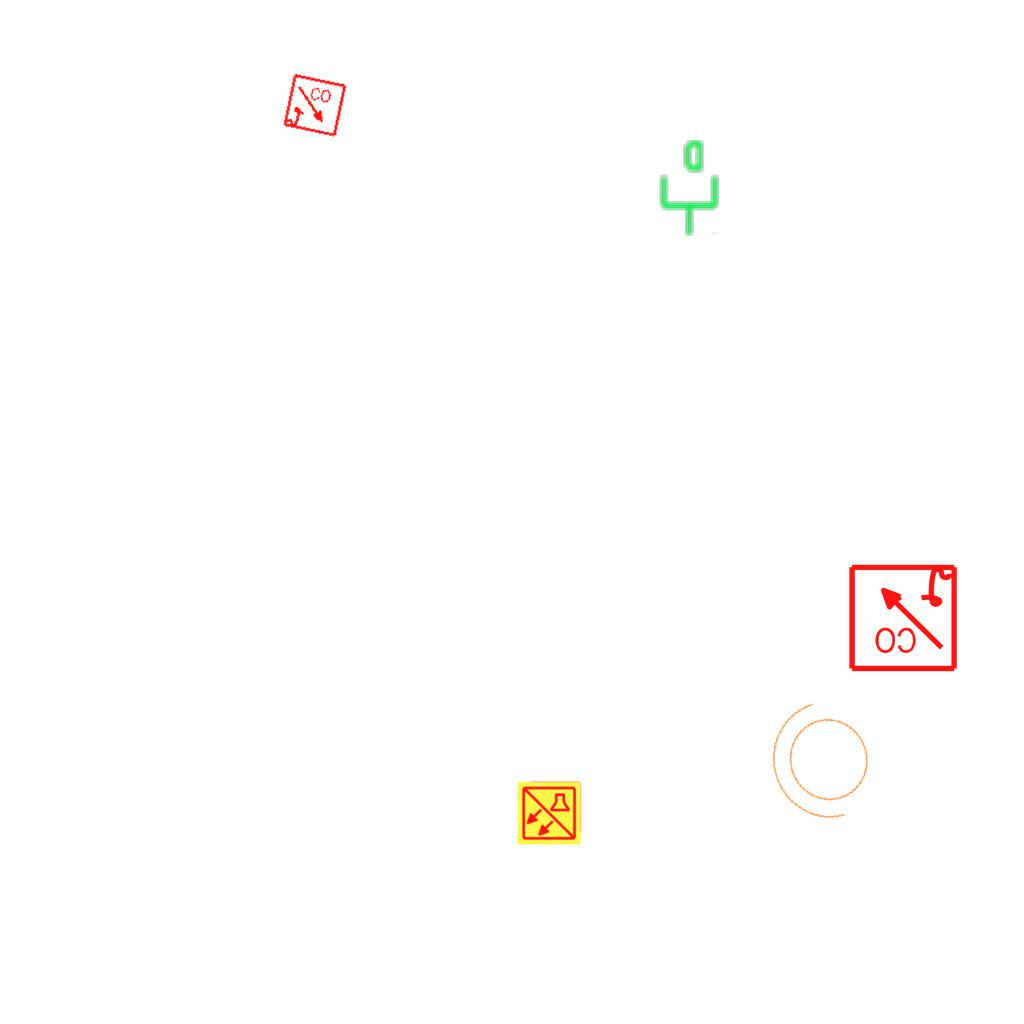Datenanschluss_einfach: (653, 138, 722, 238)
OKW_Multisensormelder_(Kombination_optischer_Rauch-Kahlenmonoxid_Waerme-Melder): (516, 780, 582, 846)
ROA_Rauchmelder_optisch_mit_Signalgeber_(Sockelsirene): (846, 560, 959, 673), (281, 72, 349, 140)
Scheinwerfer_fuer_Alarmbeleuchtung: (752, 685, 898, 843)
